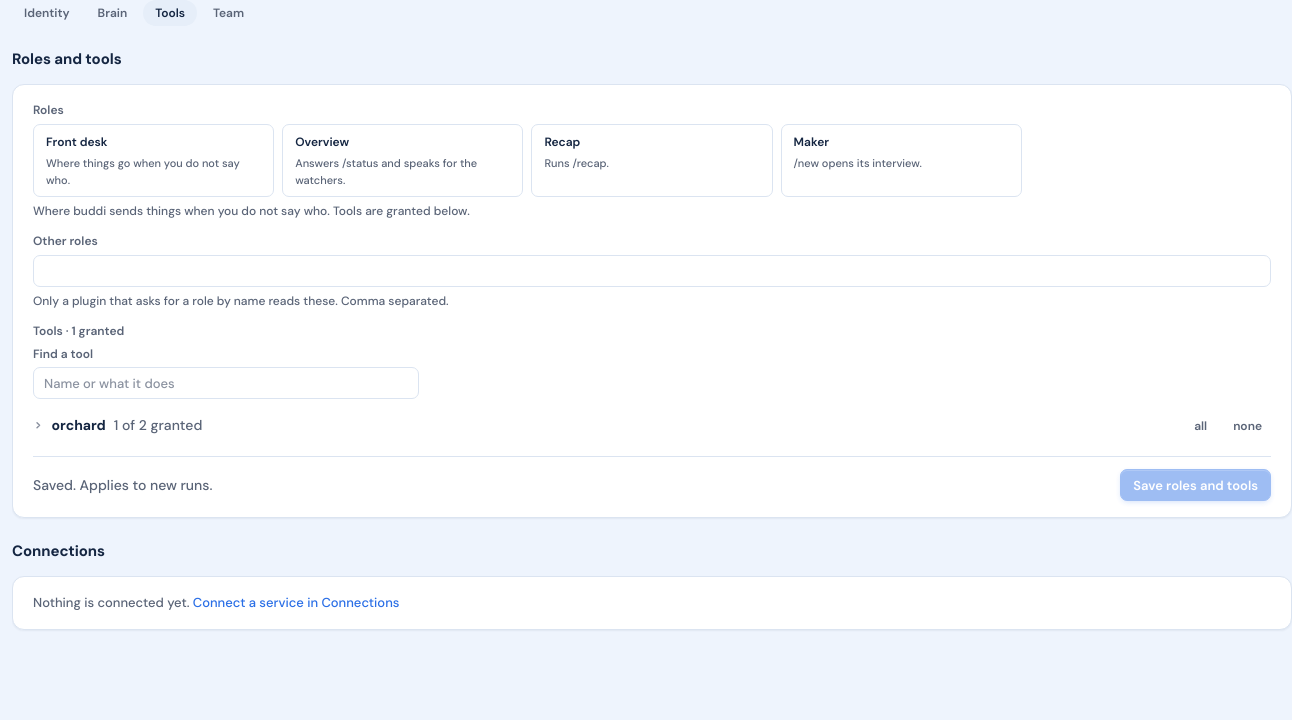
Test: saves a whole plugin as its glob, and shows a refused save beside the button
Click the button with aria-label "All orchard tools". click: click(1201, 426)
box: [1185,412,1216,438]
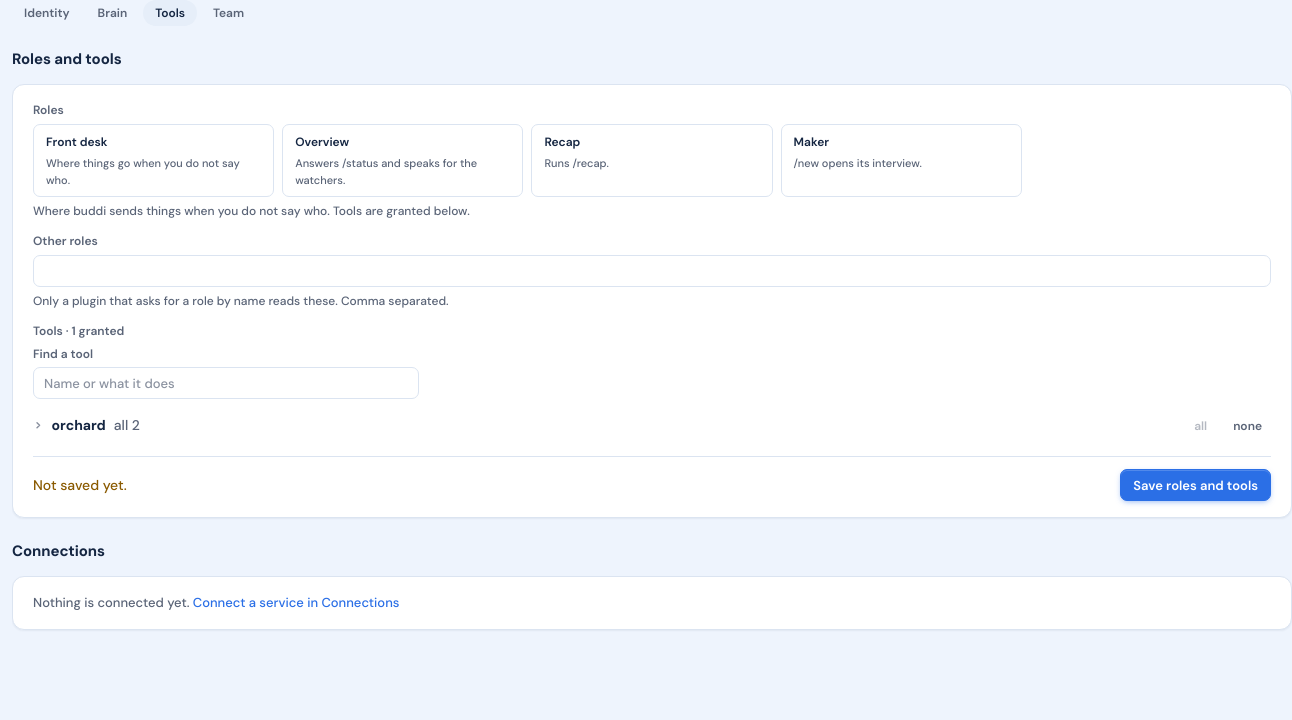
Click the button "Save roles and tools". click: click(1196, 485)
box: [1120,469,1271,501]
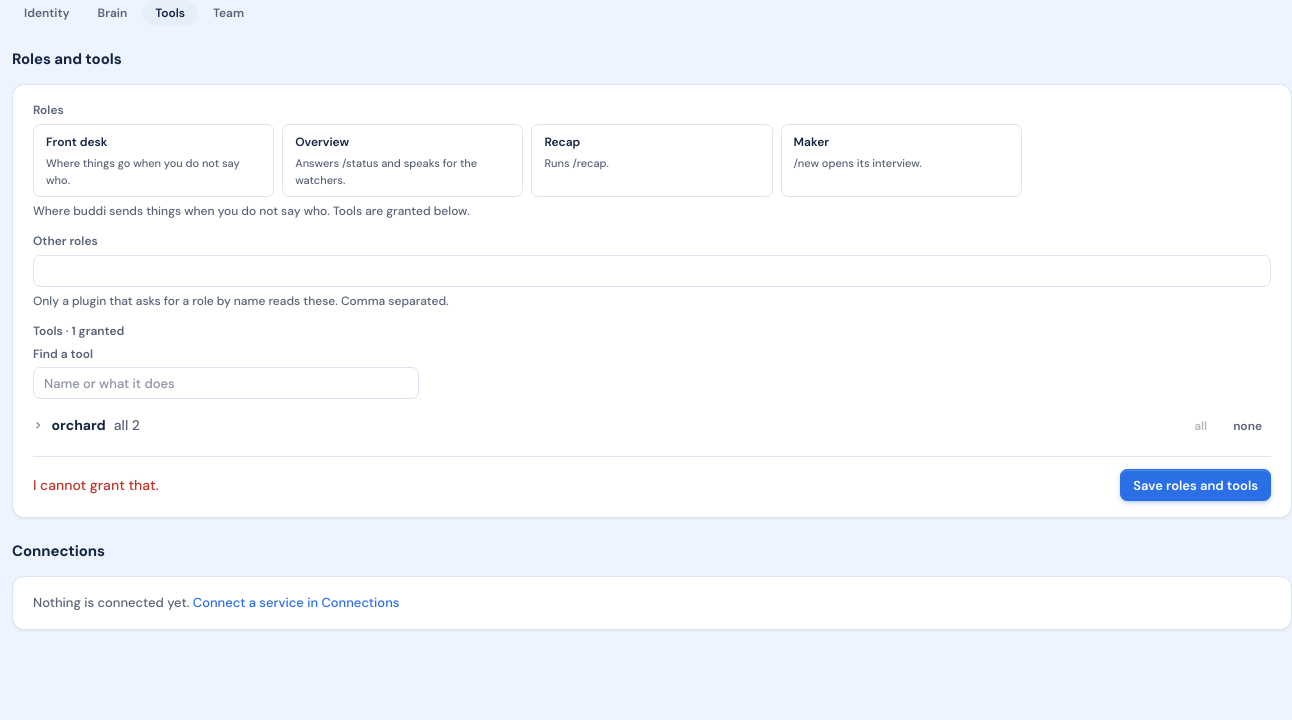
expect the message reads "I cannot grant that.": met, box [33,476,159,494]
